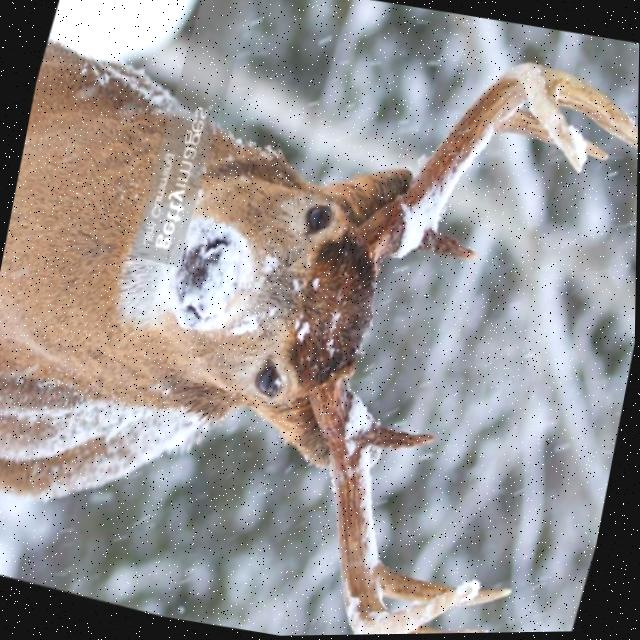L-F: (355, 62, 584, 276)
L-G1: (413, 228, 479, 261)
R-F: (309, 364, 476, 636)
R-G1: (366, 416, 438, 452)
